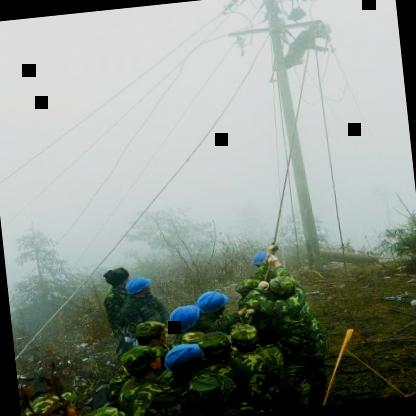helmet: (160, 341, 212, 377), (164, 304, 205, 339), (122, 273, 156, 306), (190, 290, 227, 316), (247, 247, 277, 272)
